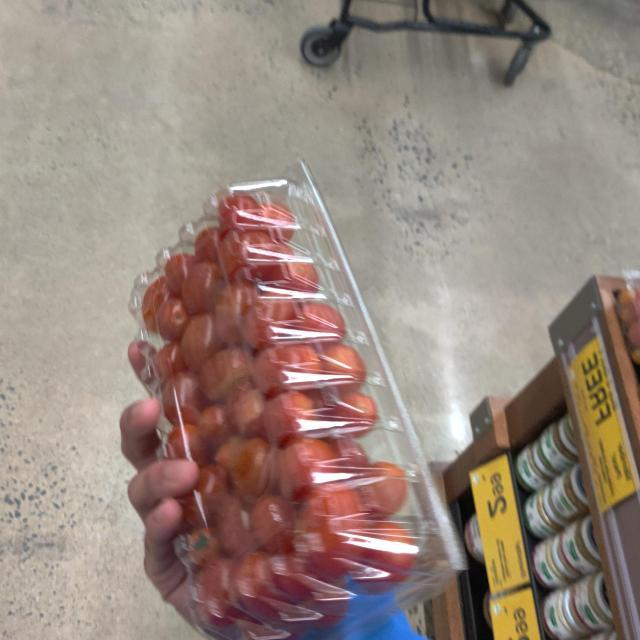tomato: (125, 166, 418, 640)
